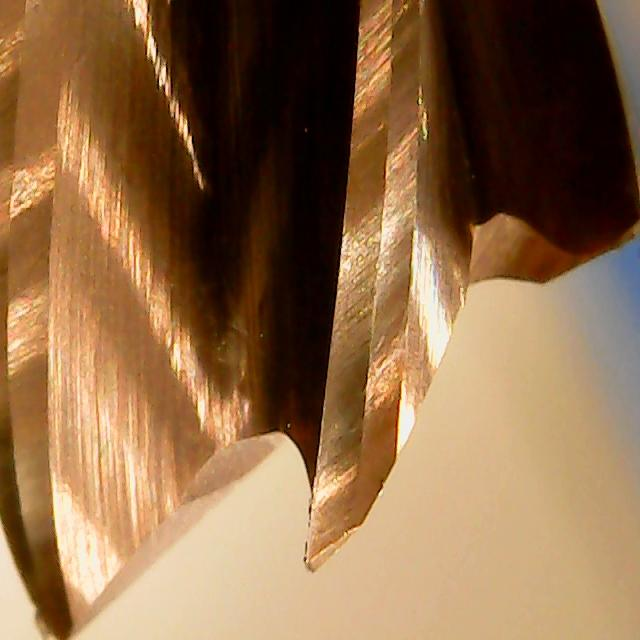Tool-wear-class-0: (289, 240, 426, 576)
